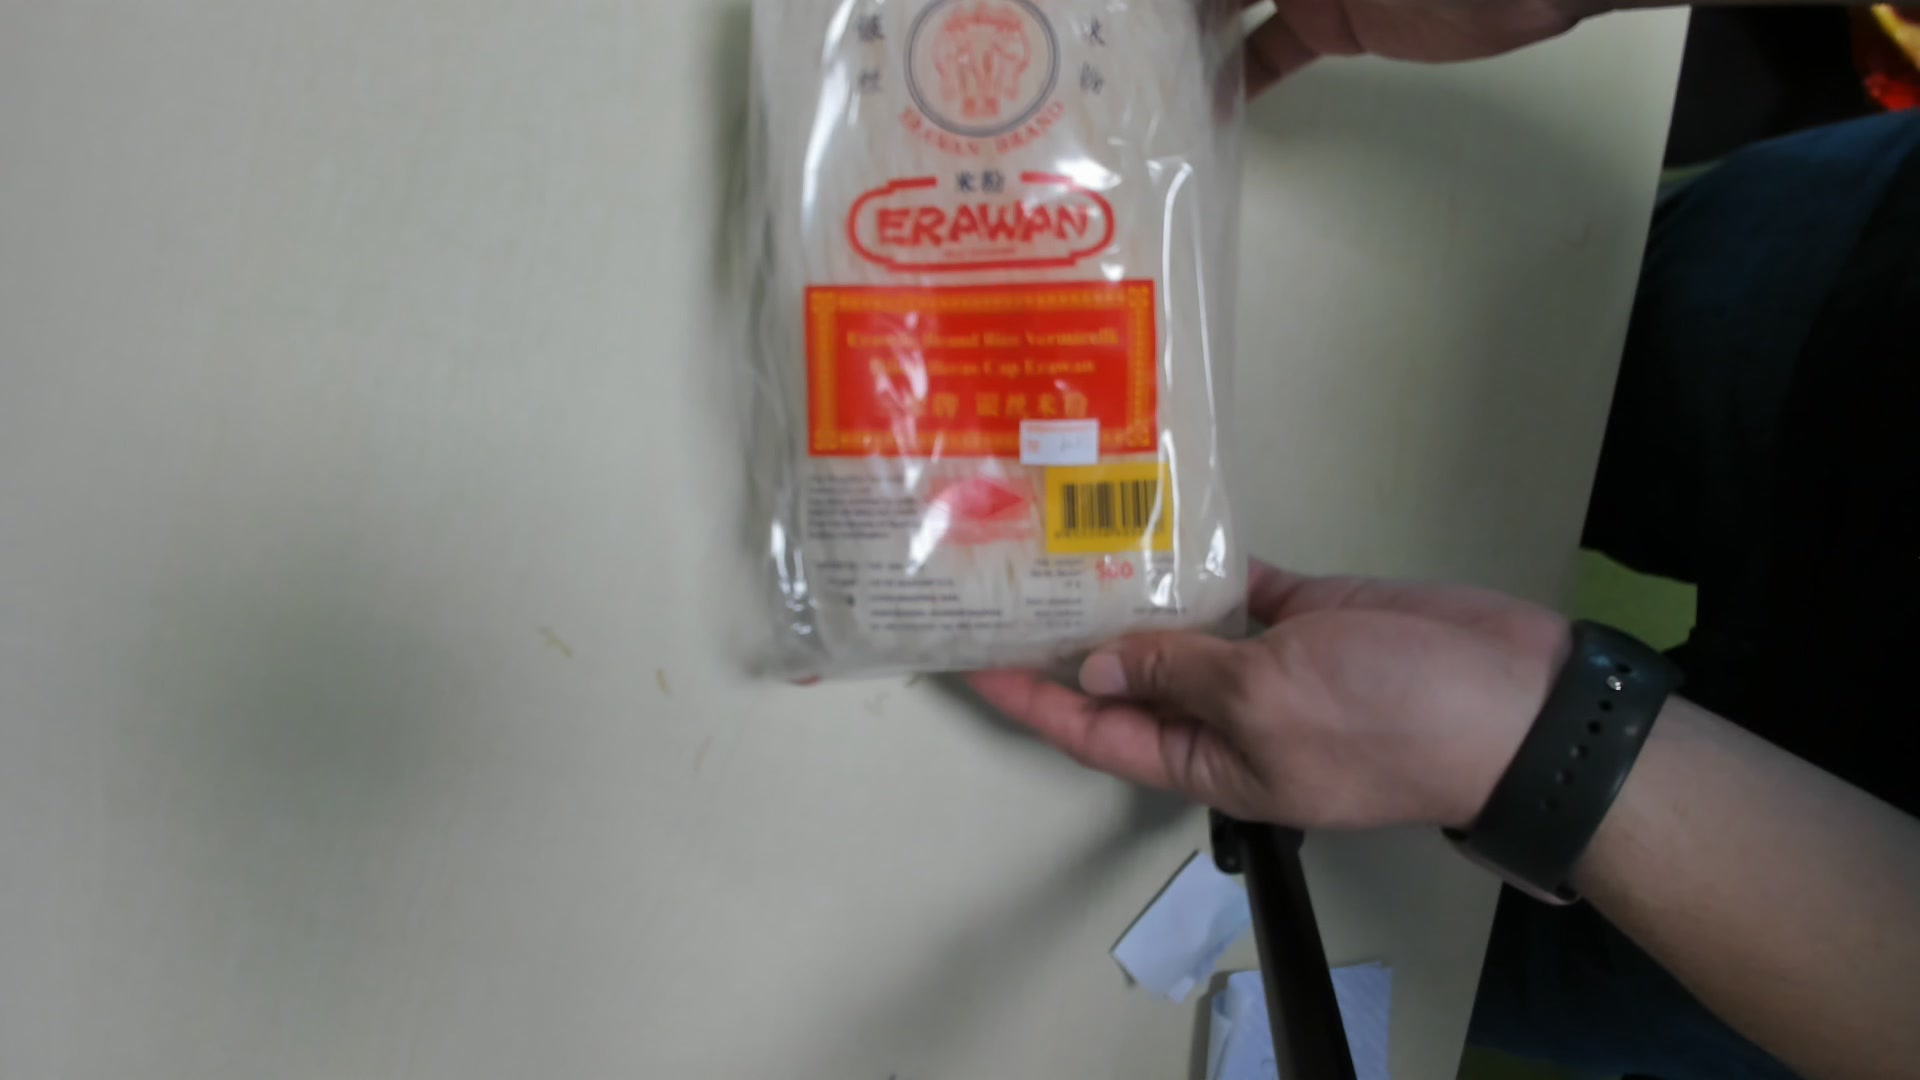BeeHoonVermicelli_500-599g_Halal_NonHealthy: (744, 5, 1240, 684)
